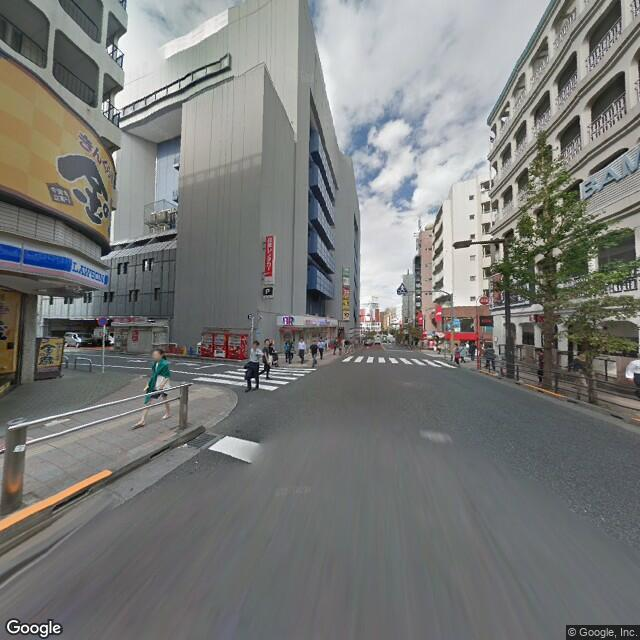lawson: (1, 241, 108, 289)
